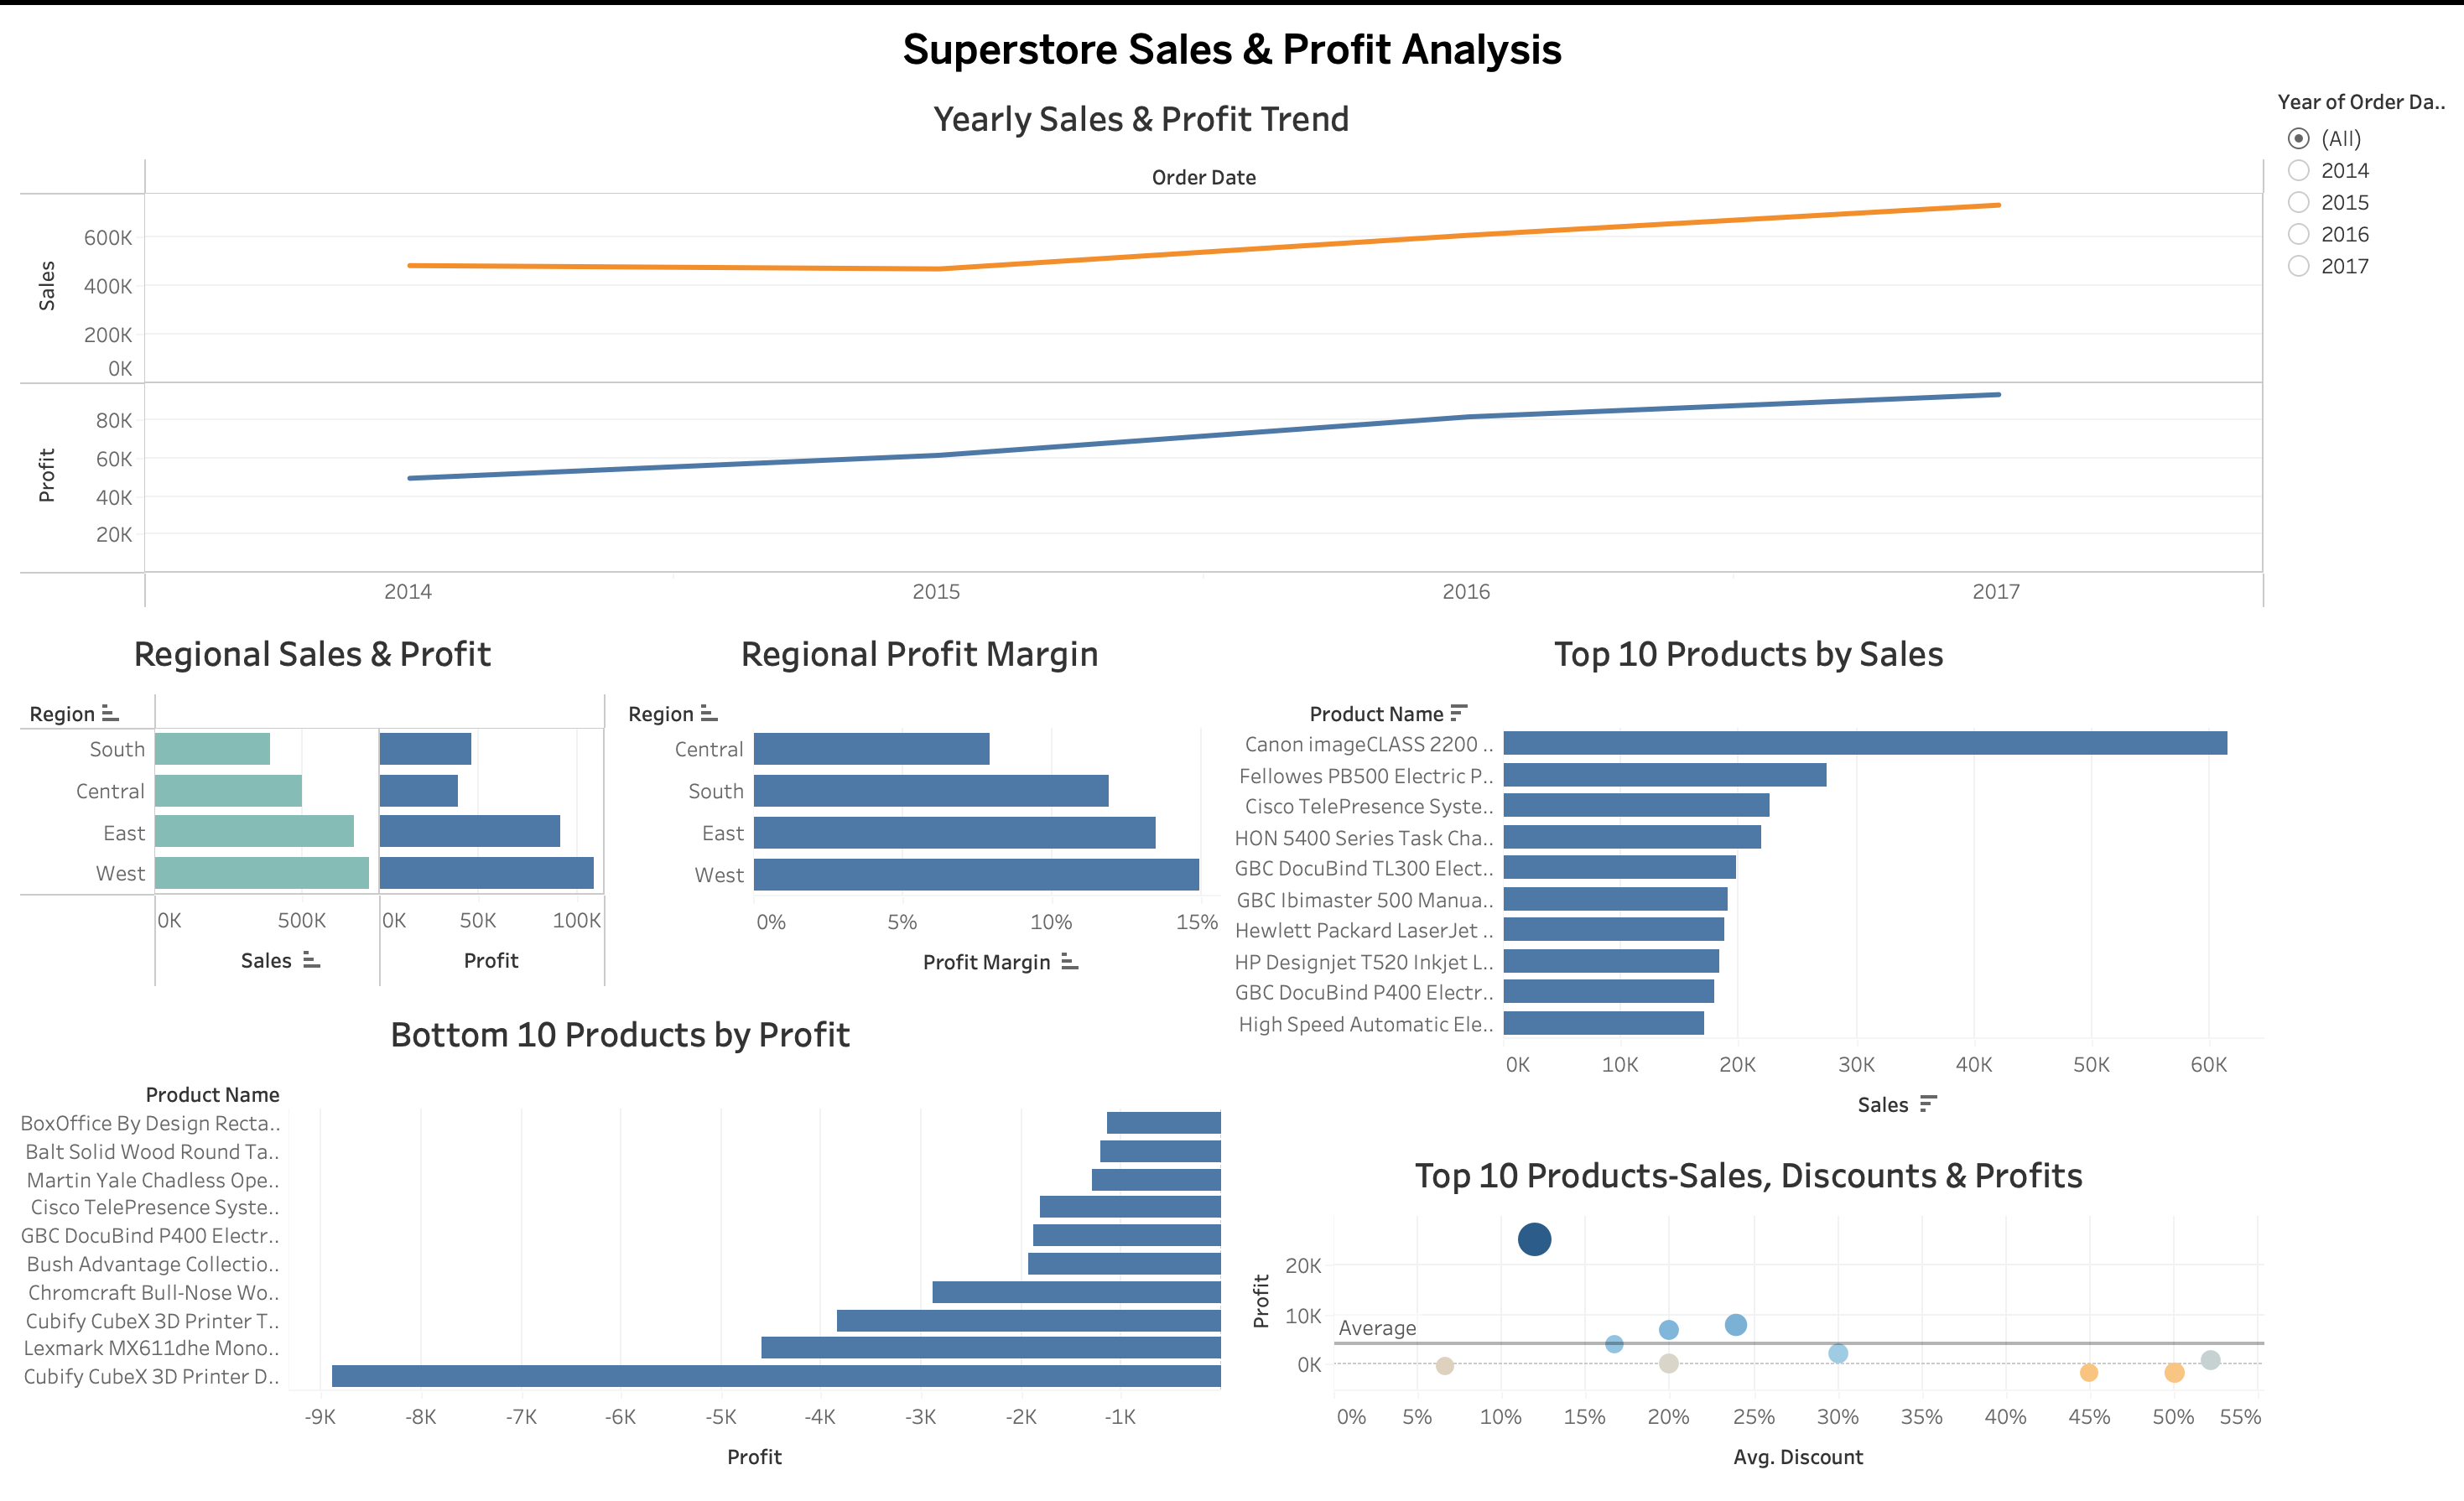

What the dashboard file says about the page in this screenshot:
{"tool":"tableau","page":{"name":"Dashboard 1","canvas":[1000,1000],"units":"permille","ordinal":0},"visuals":[{"type":"title","box":[5.5,10.8,988.9,50.2]},{"type":"worksheet","title":"Yearly Sales & Profit Trend","mark":"Automatic","rows":["Sales","Profit"],"cols":["Order Date"],"box":[5.5,61.1,914.1,352.7]},{"type":"filter","title":"Yearly Sales & Profit Trend","param":"[federated.1quixis0572d5p14zysqu1hb3de5].[yr:Order Date:ok]","box":[919.7,61.1,74.8,188.6]},{"type":"worksheet","title":"Regional Sales & Profit","mark":"Automatic","rows":["Region"],"cols":["Sales","Profit"],"box":[5.5,413.7,242.4,250.1]},{"type":"worksheet","title":"Regional Profit Margin","mark":"Automatic","rows":["Region"],"cols":["Calculation_0226808056086528"],"box":[247.9,413.7,249.5,250.1]},{"type":"worksheet","title":"Top 10 Products by Sales","mark":"Automatic","rows":["Product Name"],"cols":["Sales"],"box":[497.4,413.7,422.2,343.4]},{"type":"worksheet","title":"Bottom 10 Products by Profit","mark":"Automatic","rows":["Product Name"],"cols":["Profit"],"box":[5.5,663.8,491.9,325.3]},{"type":"worksheet","title":"Top 10 Products-Sales, Discounts & Profits","mark":"Circle","rows":["Profit"],"cols":["Discount"],"box":[497.4,757.1,422.2,232]}]}

Visuals, with their boxes on the dashboard's canvas, which has no fixed pixel size, in thousandths of its width and height (x1, y1, x2, y2). These are canvas units, not pixel positions in the 2464x1501 screenshot, which may show the page scaled, cropped or inside an application window:
title: rect(6, 11, 994, 61)
"Yearly Sales & Profit Trend" worksheet: rect(6, 61, 920, 414)
"Yearly Sales & Profit Trend" filter: rect(920, 61, 994, 250)
"Regional Sales & Profit" worksheet: rect(6, 414, 248, 664)
"Regional Profit Margin" worksheet: rect(248, 414, 497, 664)
"Top 10 Products by Sales" worksheet: rect(497, 414, 920, 757)
"Bottom 10 Products by Profit" worksheet: rect(6, 664, 497, 989)
"Top 10 Products-Sales, Discounts & Profits" worksheet (Circle marks): rect(497, 757, 920, 989)
